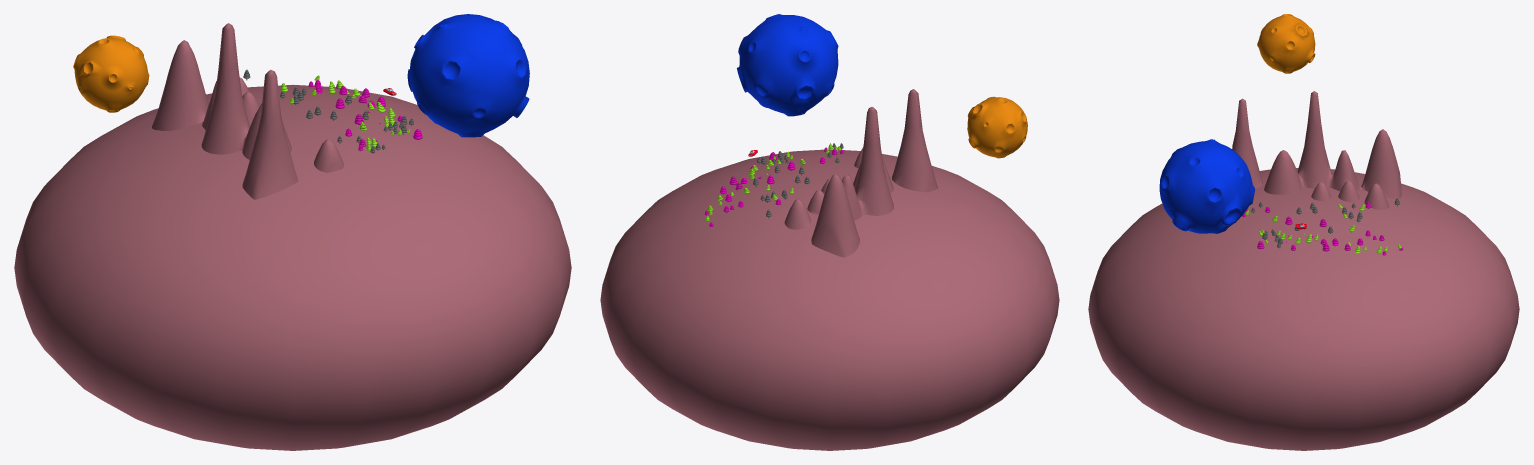
The model's file is mars_4.glb.
3 views of the same model, side by side, from view 1: azimuth 30°, elevation 25°; view 2: azimuth 150°, elevation 25°; view 3: azimuth 270°, elevation 25° (orthographic). The views are drawn at different scales.
Visible parts, largest first — view 1: sol, Planette_2, planette_1, tree_4, tree_2, tree_1; view 2: sol, Planette_2, planette_1, tree_2, tree_4, tree_1; view 3: sol, Planette_2, planette_1, tree_2, tree_4, tree_1.
Boxes of the visible parts, <box> form: sol: <box>14,23,571,450</box>; Planette_2: <box>407,14,529,137</box>; planette_1: <box>73,35,149,112</box>; tree_4: <box>243,69,413,153</box>; tree_2: <box>308,80,422,150</box>; tree_1: <box>281,75,409,151</box>; sol: <box>600,89,1059,450</box>; Planette_2: <box>737,14,838,116</box>; planette_1: <box>967,96,1027,158</box>; tree_2: <box>704,147,843,226</box>; tree_4: <box>753,143,843,218</box>; tree_1: <box>705,144,841,221</box>; sol: <box>1088,91,1519,450</box>; Planette_2: <box>1159,139,1255,233</box>; planette_1: <box>1257,14,1315,73</box>; tree_2: <box>1242,202,1403,255</box>; tree_4: <box>1251,198,1399,247</box>; tree_1: <box>1245,204,1401,253</box>.
Bounding box in the file's own units: 358 × 301 × 358.
